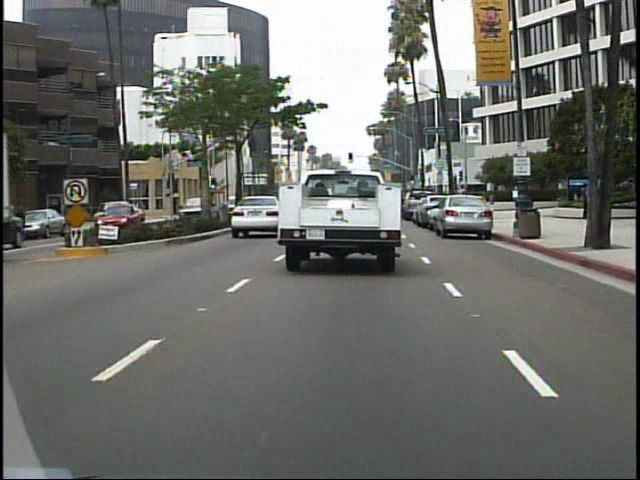person: (580, 177, 599, 224)
